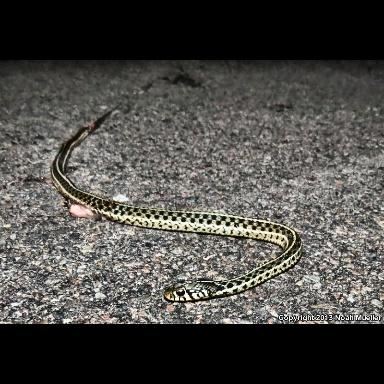snake: (52, 111, 302, 303)
